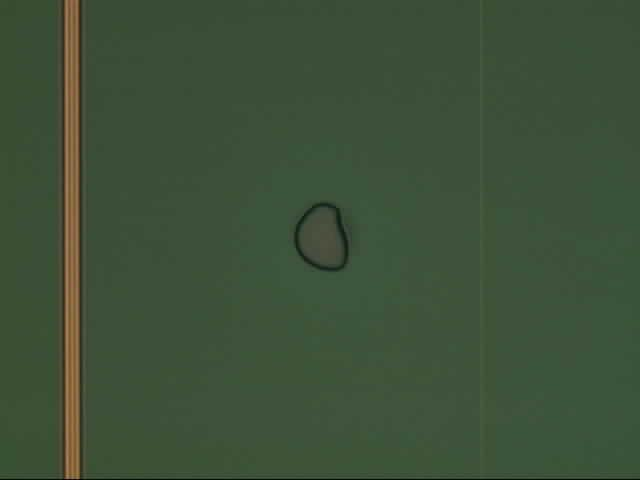PIQ PARTICLE: (294, 201, 352, 274)
